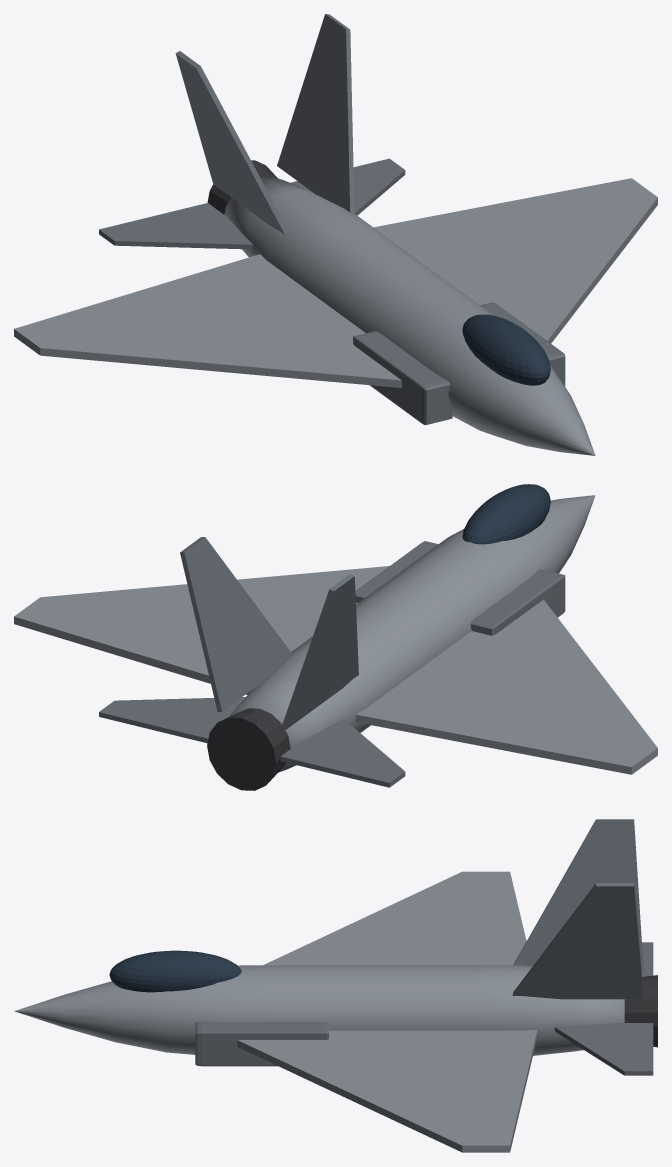
The model's file is fighter.glb.
The picture shows the model from 3 angles, top to bottom: view 1: azimuth 30°, elevation 25°; view 2: azimuth 150°, elevation 25°; view 3: azimuth 270°, elevation 25°; orthographic projection. The views are drawn at different scales.
Parts seen in each view (by area): view 1: fuselage, wing, wing.001, fin.001, fin, stab, intake, canopy, stab.001, intake.001, nozzle; view 2: wing, fuselage, wing.001, fin.001, fin, nozzle, stab, stab.001, canopy, intake, intake.001; view 3: fuselage, wing.001, wing, fin.001, fin, canopy, intake.001, stab.001, nozzle.
Part boxes in pixels (bbox=[...]): fuselage: bbox=[224, 177, 595, 455]; wing: bbox=[14, 254, 401, 387]; wing.001: bbox=[374, 178, 657, 343]; fin.001: bbox=[277, 14, 354, 214]; fin: bbox=[175, 51, 288, 234]; stab: bbox=[99, 203, 252, 249]; intake: bbox=[353, 331, 452, 425]; canopy: bbox=[462, 314, 550, 385]; stab.001: bbox=[290, 158, 405, 215]; intake.001: bbox=[480, 302, 565, 386]; nozzle: bbox=[207, 160, 277, 214]; wing: bbox=[355, 599, 657, 774]; fuselage: bbox=[229, 495, 595, 772]; wing.001: bbox=[14, 566, 389, 694]; fin.001: bbox=[180, 537, 291, 711]; fin: bbox=[281, 574, 358, 729]; nozzle: bbox=[207, 708, 290, 790]; stab: bbox=[280, 719, 405, 787]; stab.001: bbox=[99, 697, 245, 743]; canopy: bbox=[462, 484, 550, 544]; intake: bbox=[470, 569, 565, 635]; intake.001: bbox=[355, 541, 438, 602]; fuselage: bbox=[14, 965, 624, 1055]; wing.001: bbox=[237, 1029, 537, 1152]; wing: bbox=[263, 871, 526, 965]; fin.001: bbox=[512, 883, 643, 999]; fin: bbox=[513, 819, 643, 971]; canopy: bbox=[109, 950, 241, 992]; intake.001: bbox=[195, 1021, 328, 1066]; stab.001: bbox=[554, 1023, 653, 1075]; nozzle: bbox=[624, 975, 657, 1047].
Bounding box in the file's own units: 6.8 × 2.31 × 6.75.
